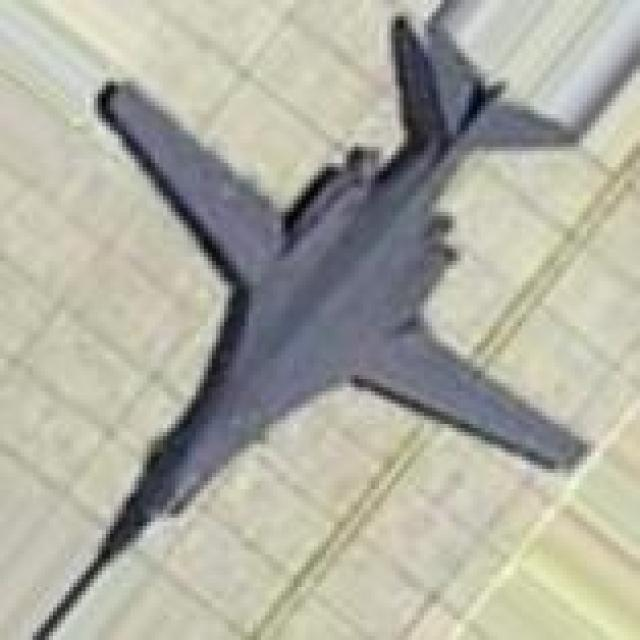B-1_TopDown: (21, 0, 596, 636)
